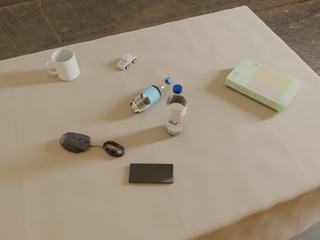book: (225, 58, 302, 113)
bottle: (130, 77, 172, 113), (166, 85, 187, 135)
cup: (46, 49, 80, 81)
mouse: (60, 132, 92, 153)
phone: (129, 164, 173, 183)
toy_car: (117, 54, 137, 70)
